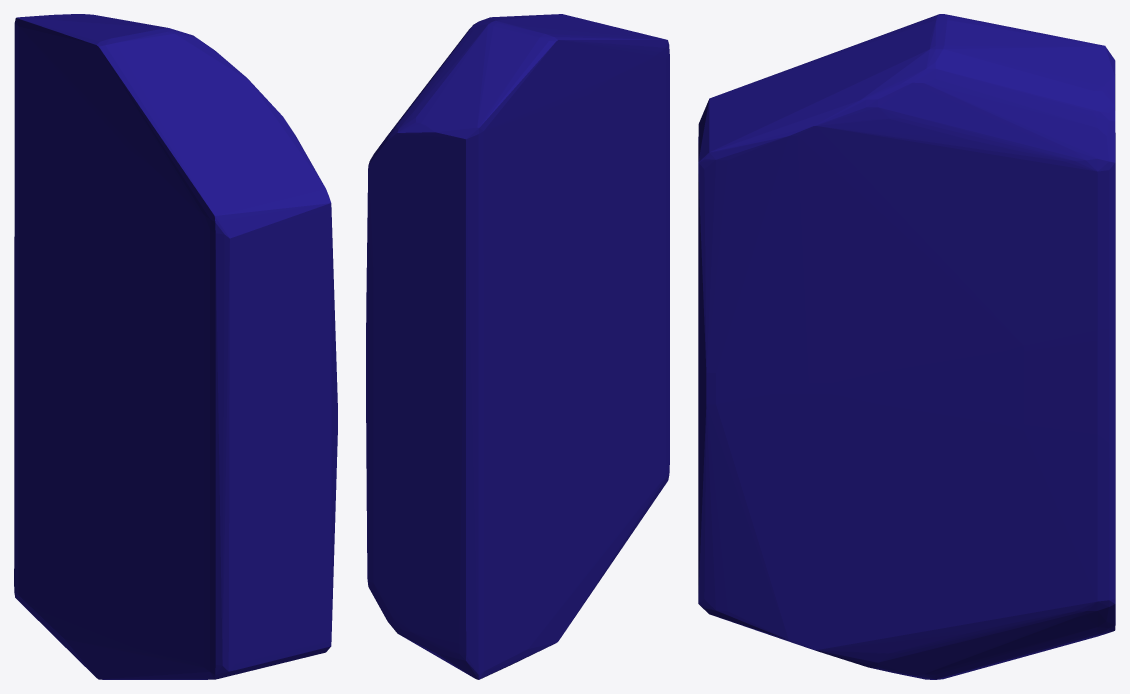
The picture shows the model from 3 angles, left to right: view 1: azimuth 30°, elevation 25°; view 2: azimuth 150°, elevation 25°; view 3: azimuth 270°, elevation 25°; orthographic projection. The views are drawn at different scales.
Bounding box in the file's own units: 0.0496 × 0.2431 × 0.1453.
